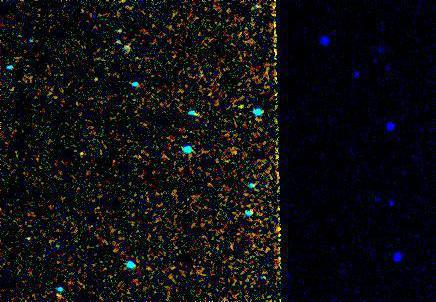star: (225, 92, 255, 122)
